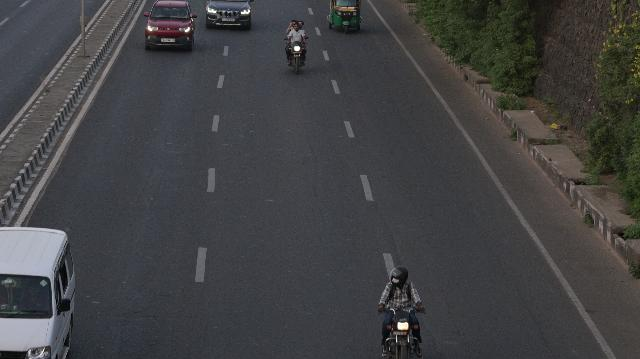With Helmet: (386, 264, 410, 286)
Without Helmet: (298, 21, 304, 29), (293, 24, 299, 31)
